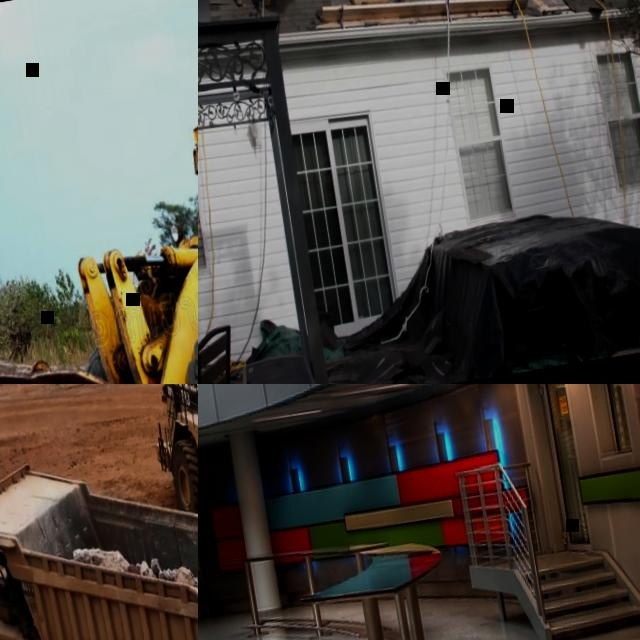machinery: (0, 45, 198, 384), (0, 423, 198, 640), (139, 384, 198, 613)
